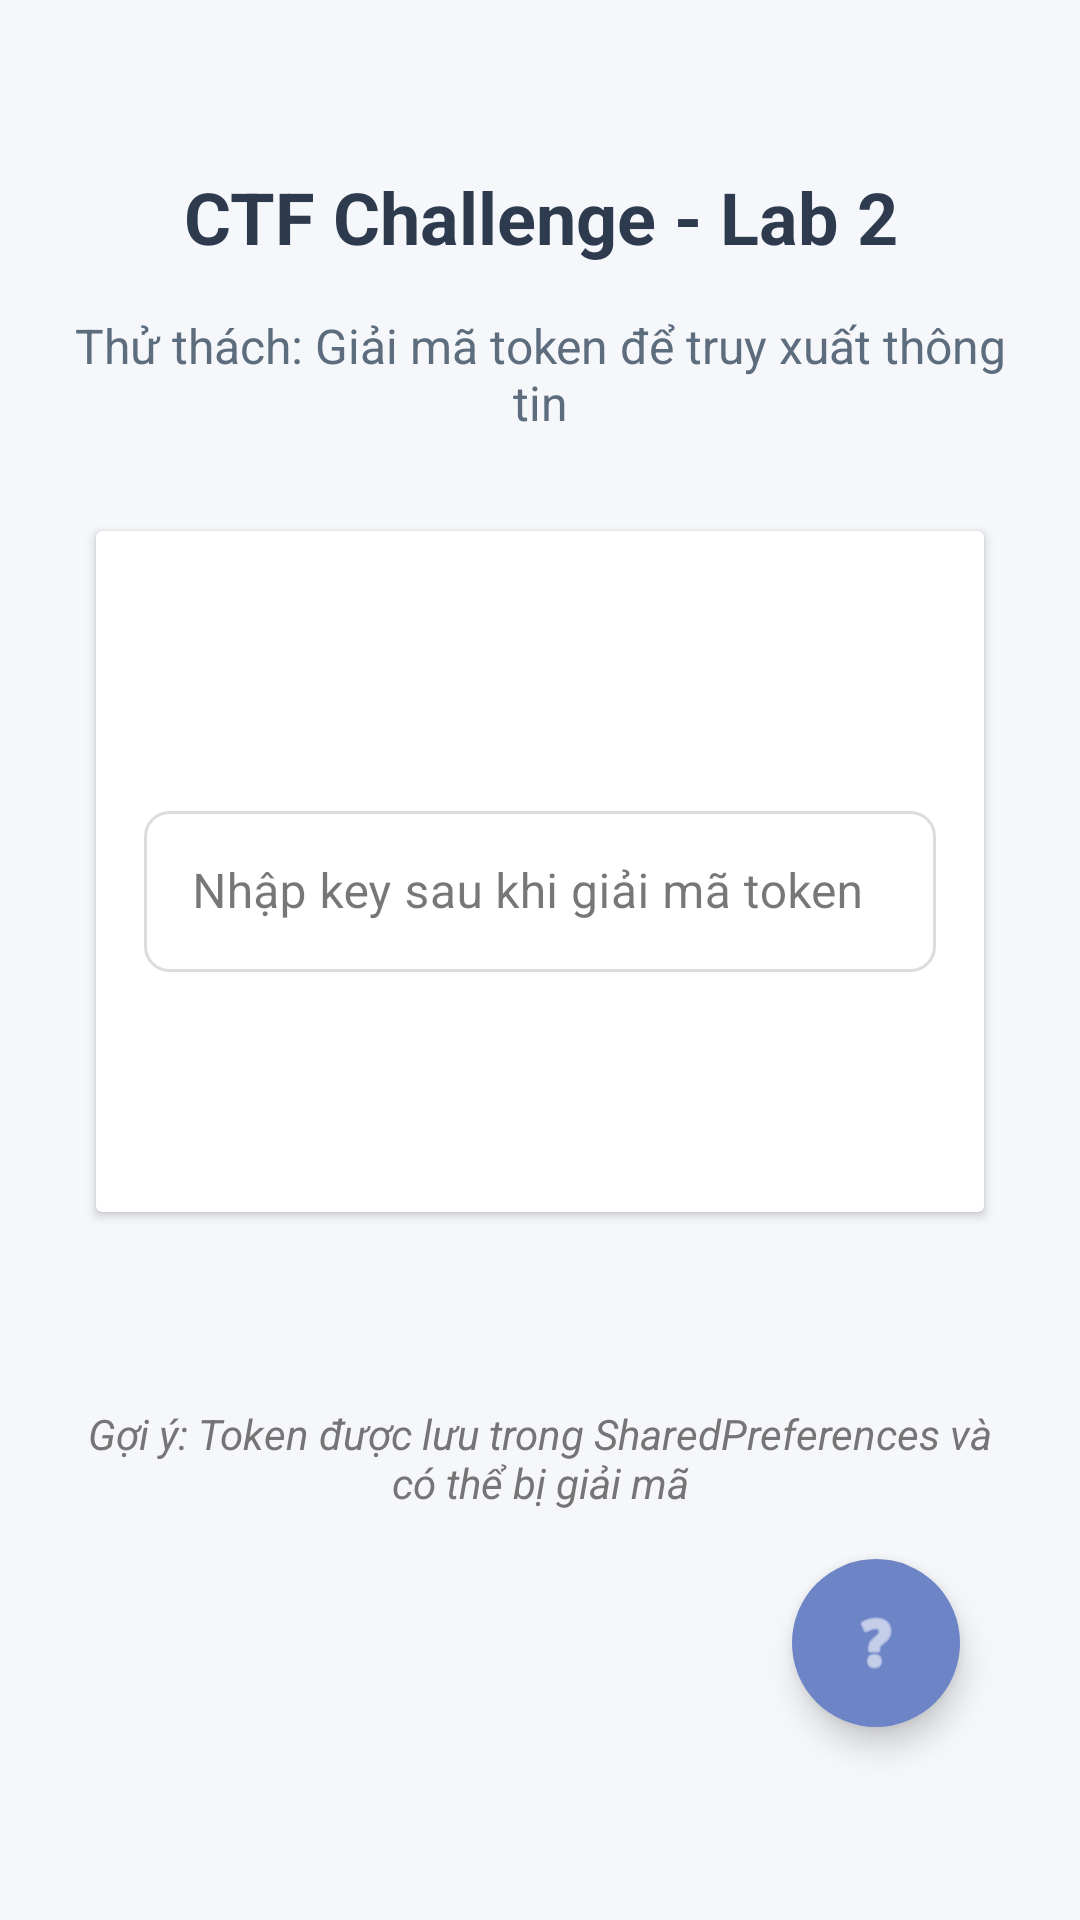

Icon bounding boxes for this 1080 × 1920 phone screenshot, format (x1, y1, x2, y2):
Help: (792, 1559, 960, 1727)
